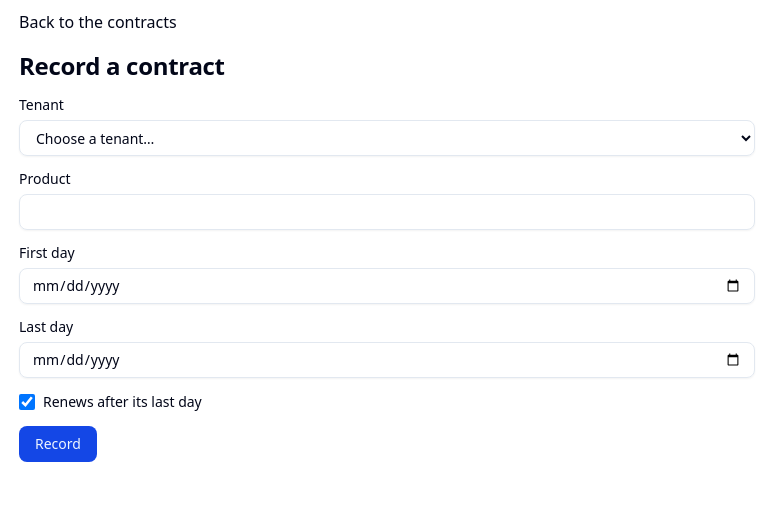
a last day before the first is refused next to the last day, and nothing is sent
The image size is (775, 507).
Select "tenant-b" in the dropdown labelled "Tenant" at (387, 138), box [19,120,755,156]
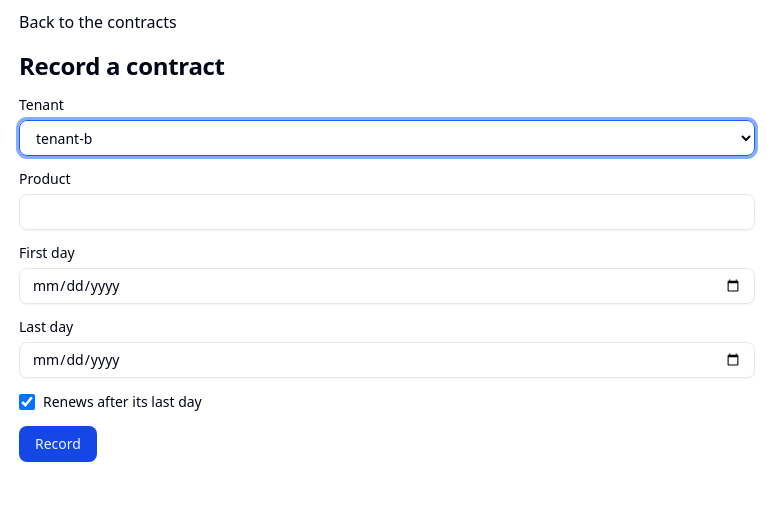
Type "Hosting" into the field labelled "Product" at (387, 212), box [19,194,755,230]
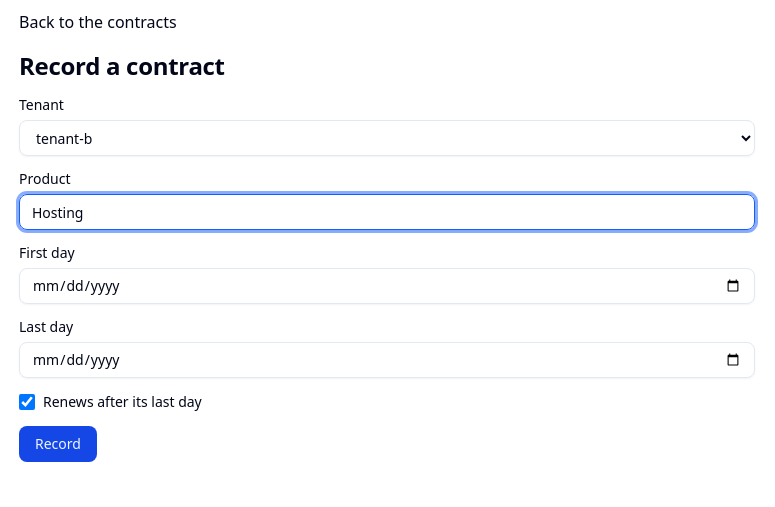
Type "2026-12-31" into the date field labelled "First day" at (387, 286), box [19,268,755,304]
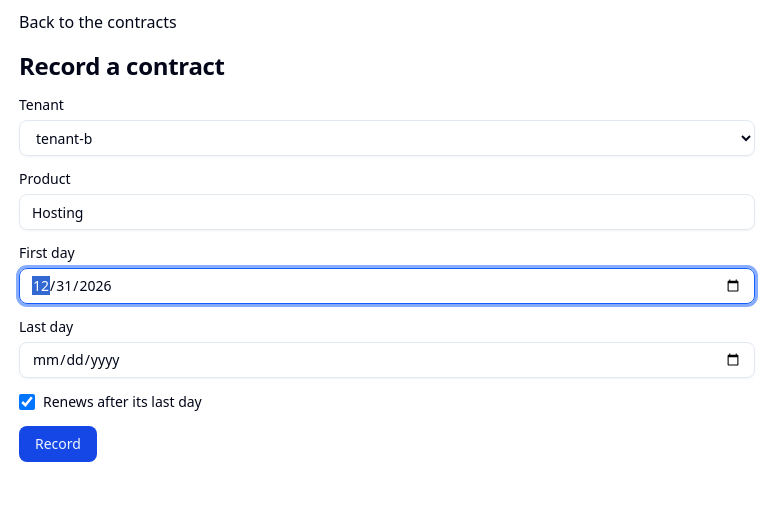
Type "2026-01-01" into the date field labelled "Last day" at (387, 360), box [19,342,755,378]
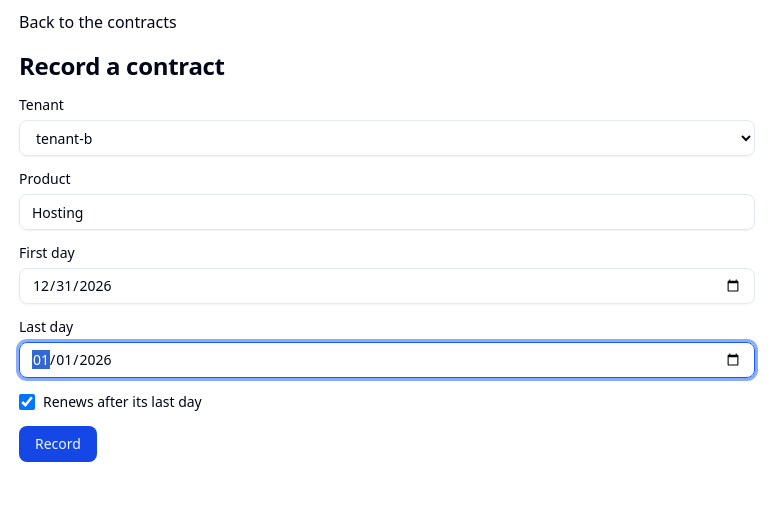
Click the button "Record" at (58, 444), box [19,426,97,462]
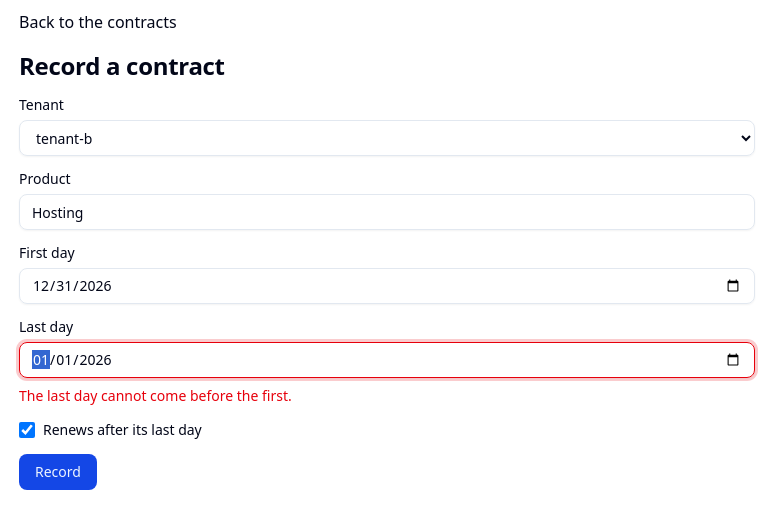
Check: the message reads "The last day cannot come before the first.", box [19,386,292,405]
